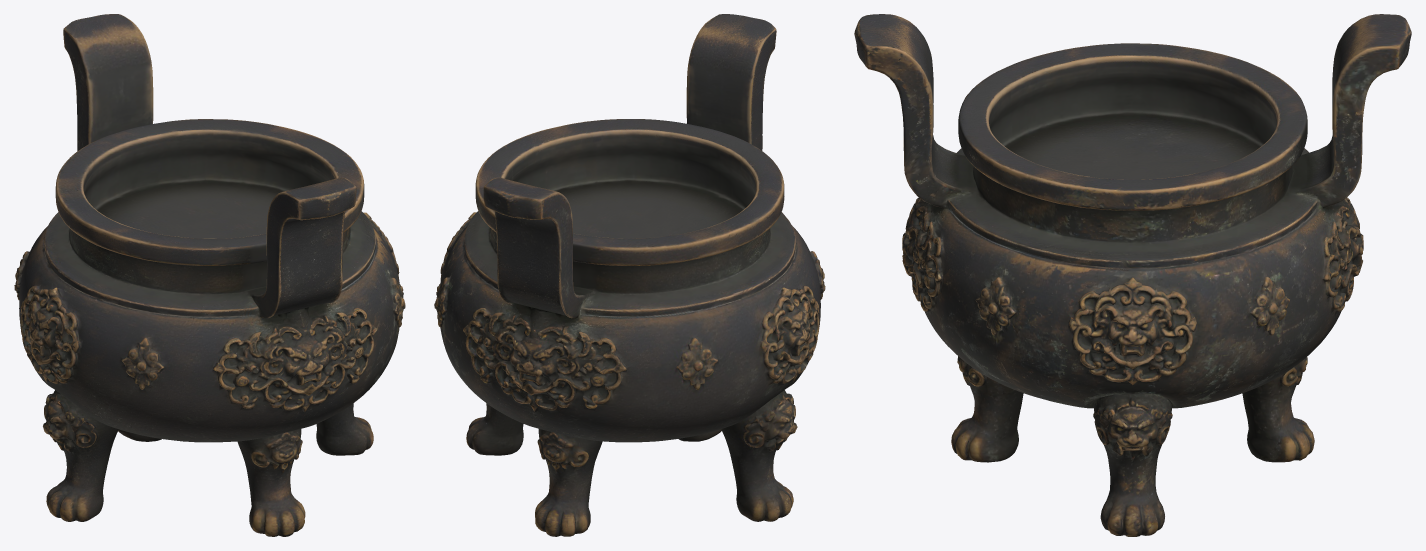
Rendered from 0-incense-burner.glb.
The picture shows the model from 3 angles, left to right: view 1: azimuth 30°, elevation 25°; view 2: azimuth 150°, elevation 25°; view 3: azimuth 270°, elevation 25°; orthographic projection. The views are drawn at different scales.
Visible parts, largest first — view 1: tripo_node_a961ddb2-af3a-4cc9-864a-2d4fd06b46fa; view 2: tripo_node_a961ddb2-af3a-4cc9-864a-2d4fd06b46fa; view 3: tripo_node_a961ddb2-af3a-4cc9-864a-2d4fd06b46fa.
Part boxes in pixels (x1,y1,x2,y2): tripo_node_a961ddb2-af3a-4cc9-864a-2d4fd06b46fa: (14,14,405,536); tripo_node_a961ddb2-af3a-4cc9-864a-2d4fd06b46fa: (434,14,825,536); tripo_node_a961ddb2-af3a-4cc9-864a-2d4fd06b46fa: (854,14,1411,536).
Bounding box in the file's own units: 0.8272 × 0.8429 × 1.
1 material, 1 textured.
